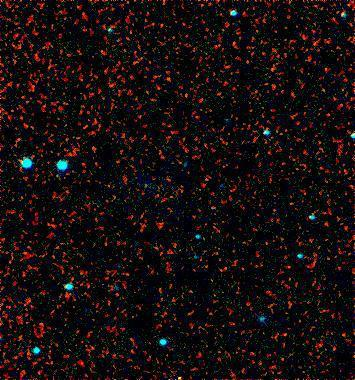star: (168, 362, 198, 380)
